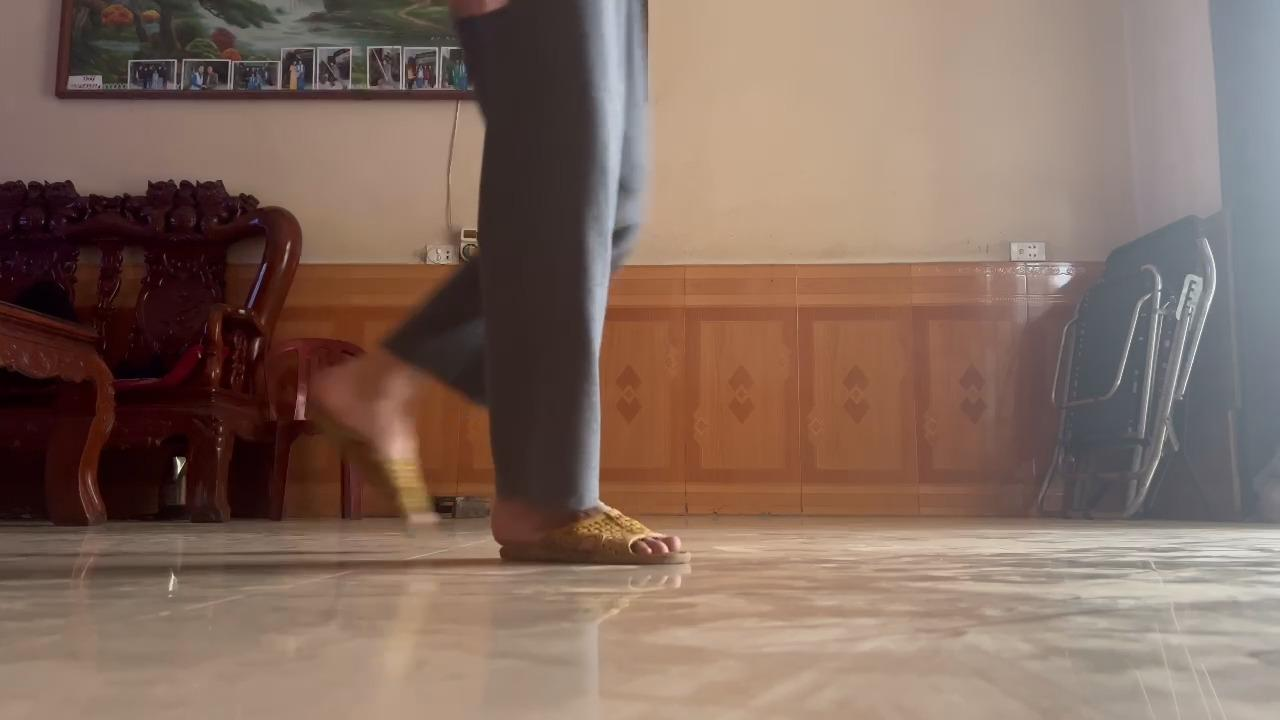no-boot: (300, 363, 452, 541), (477, 499, 697, 578)
